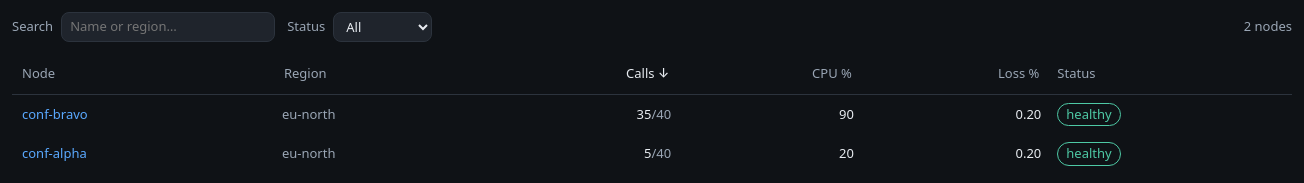
Test: NodeTable search and filter › filters rows by name when the user types in the search box
Type "alpha" into the search field labelled "Search" at (168, 27), box [61,12,275,42]
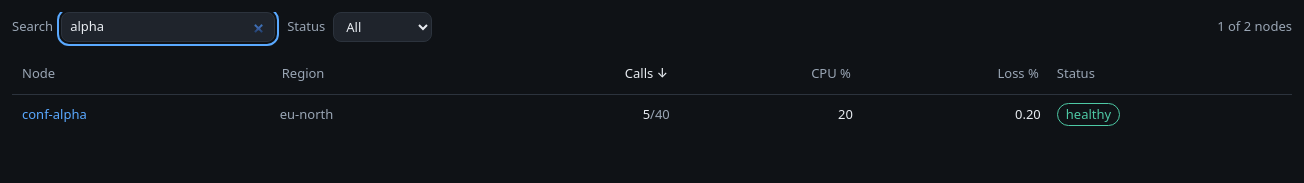
Expected: the button "conf-alpha" is shown, [20,102,89,126]
Result: the button "conf-bravo" is gone
